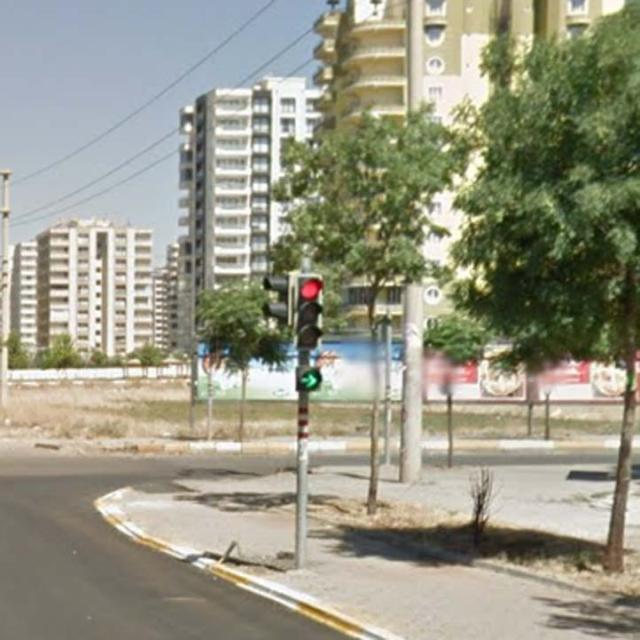kirmizi: (295, 272, 321, 348)
